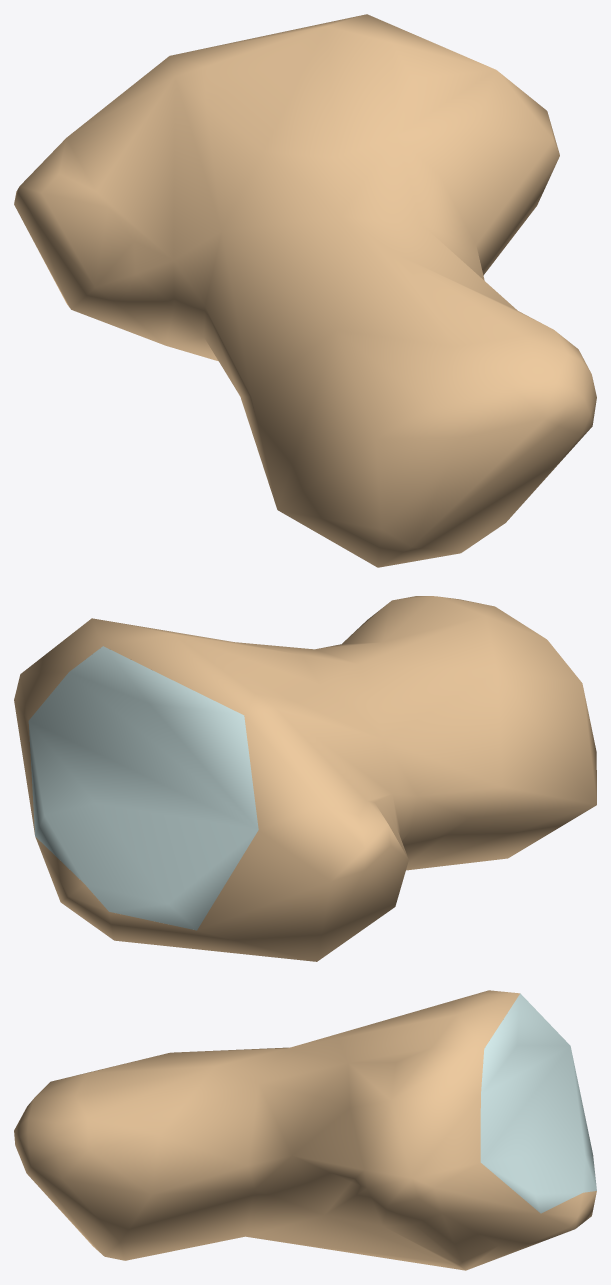
File: Distal_phalanx_fifth_finger_foot_right.glb
3 renders of one model, top to bottom at view 1: azimuth 30°, elevation 25°; view 2: azimuth 150°, elevation 25°; view 3: azimuth 270°, elevation 25°, orthographic. The views are drawn at different scales.
Parts seen in each view (by area): view 1: Distal_phalanx_of_5th_finger_of_foot.r_Generated_Mesh_From_X; view 2: Distal_phalanx_of_5th_finger_of_foot.r_Generated_Mesh_From_X; view 3: Distal_phalanx_of_5th_finger_of_foot.r_Generated_Mesh_From_X.
Boxes of the visible parts, box(x1,y1,x2,y2) form: Distal_phalanx_of_5th_finger_of_foot.r_Generated_Mesh_From_X: box(14, 14, 596, 567); Distal_phalanx_of_5th_finger_of_foot.r_Generated_Mesh_From_X: box(14, 596, 596, 961); Distal_phalanx_of_5th_finger_of_foot.r_Generated_Mesh_From_X: box(14, 990, 596, 1270).
Bounding box in the file's own units: 0.00789 × 0.00564 × 0.0109.
